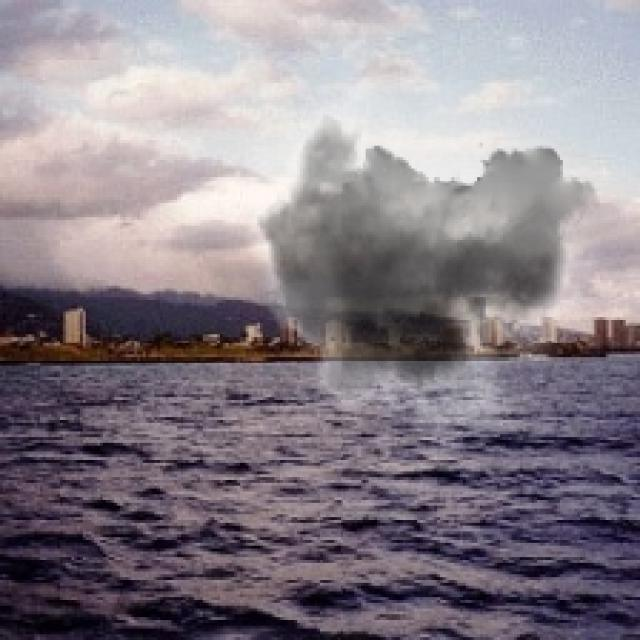smoke: (226, 34, 600, 454)
